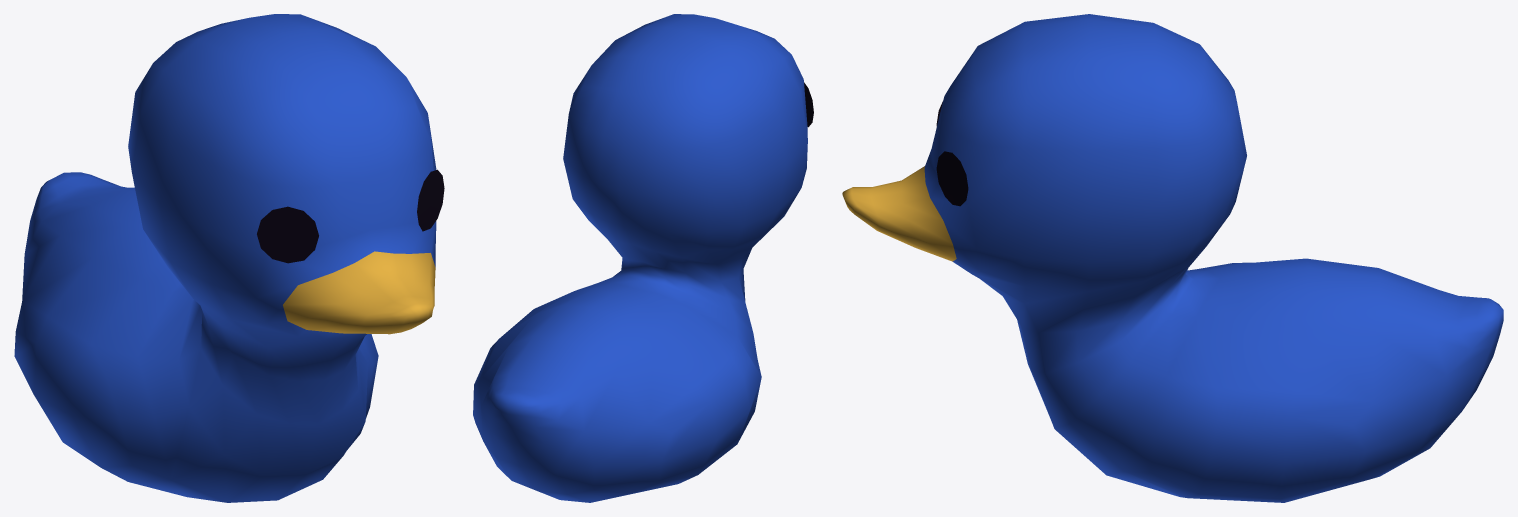
The model's file is Duck_Blue.fbx.
3 views of the same model, side by side, from view 1: azimuth 30°, elevation 25°; view 2: azimuth 150°, elevation 25°; view 3: azimuth 270°, elevation 25° (orthographic). The views are drawn at different scales.
Parts seen in each view (by area): view 1: Duck_Blue; view 2: Duck_Blue; view 3: Duck_Blue.
Boxes of the visible parts, box(x1,y1,x2,y2) form: Duck_Blue: box(14, 14, 444, 502); Duck_Blue: box(473, 14, 813, 502); Duck_Blue: box(842, 14, 1503, 502).
Bounding box in the file's own units: 76.94 × 124 × 165.
